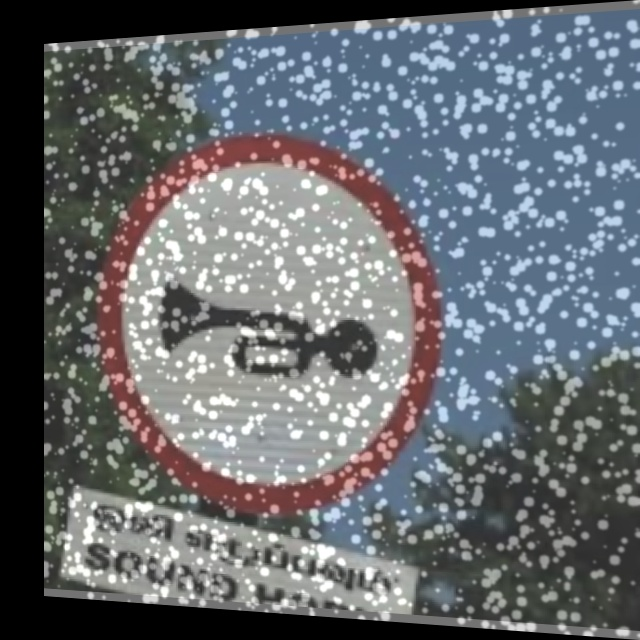Compulsory_Sound_Horn: (120, 138, 440, 490)
